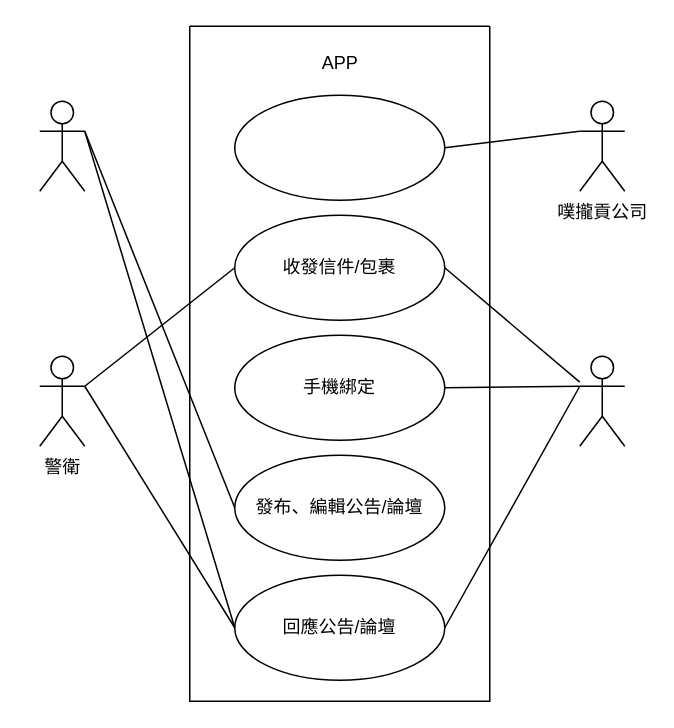
This 674x728 diagram has some shape labels left out. Each missing label, with the centre of its shape:
"主任委員" goes at pixel 61 145.
"住戶" goes at pixel 601 400.
"提供APP" goes at pixel 339 147.
